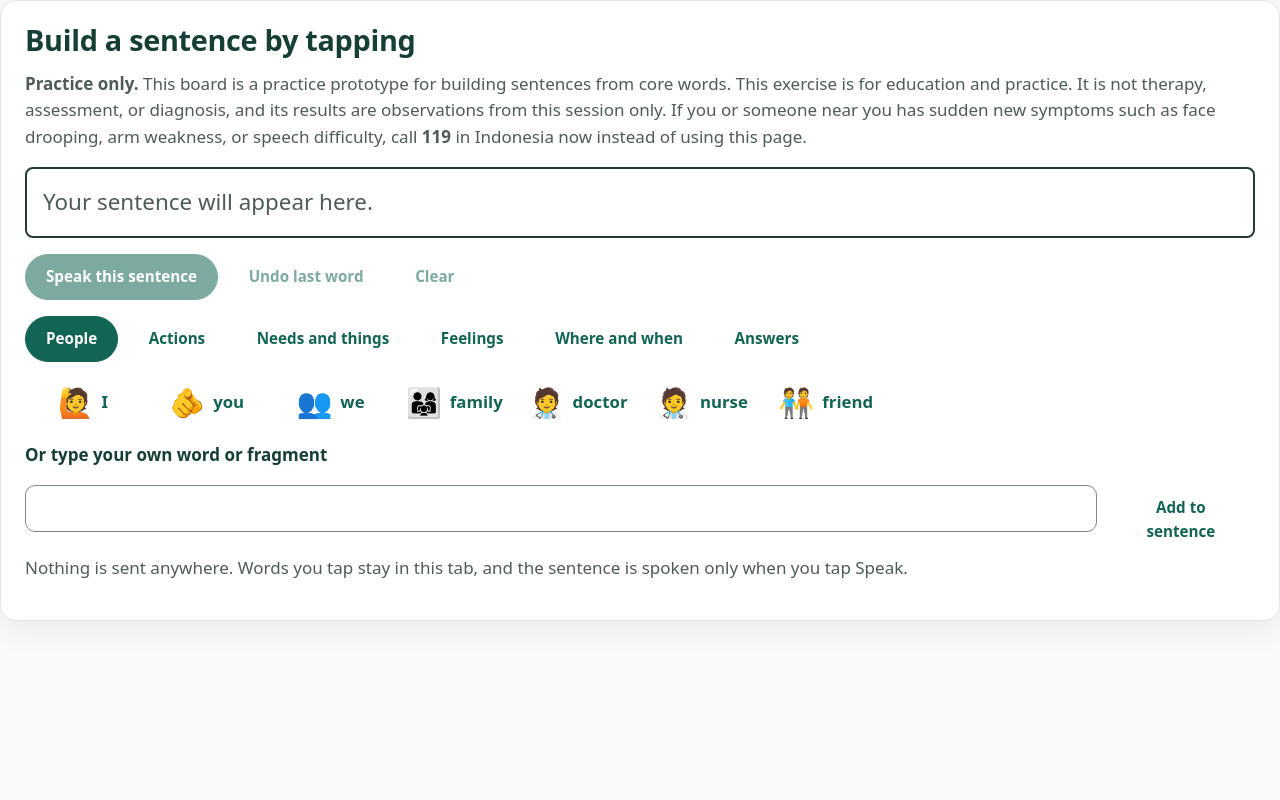
Test: AphasiaCommunicationMode › builds a sentence from tapped core words in tap order
The image size is (1280, 800).
Click the button "🙋 I" at (83, 402), box x1=25 y1=362 x2=141 y2=442
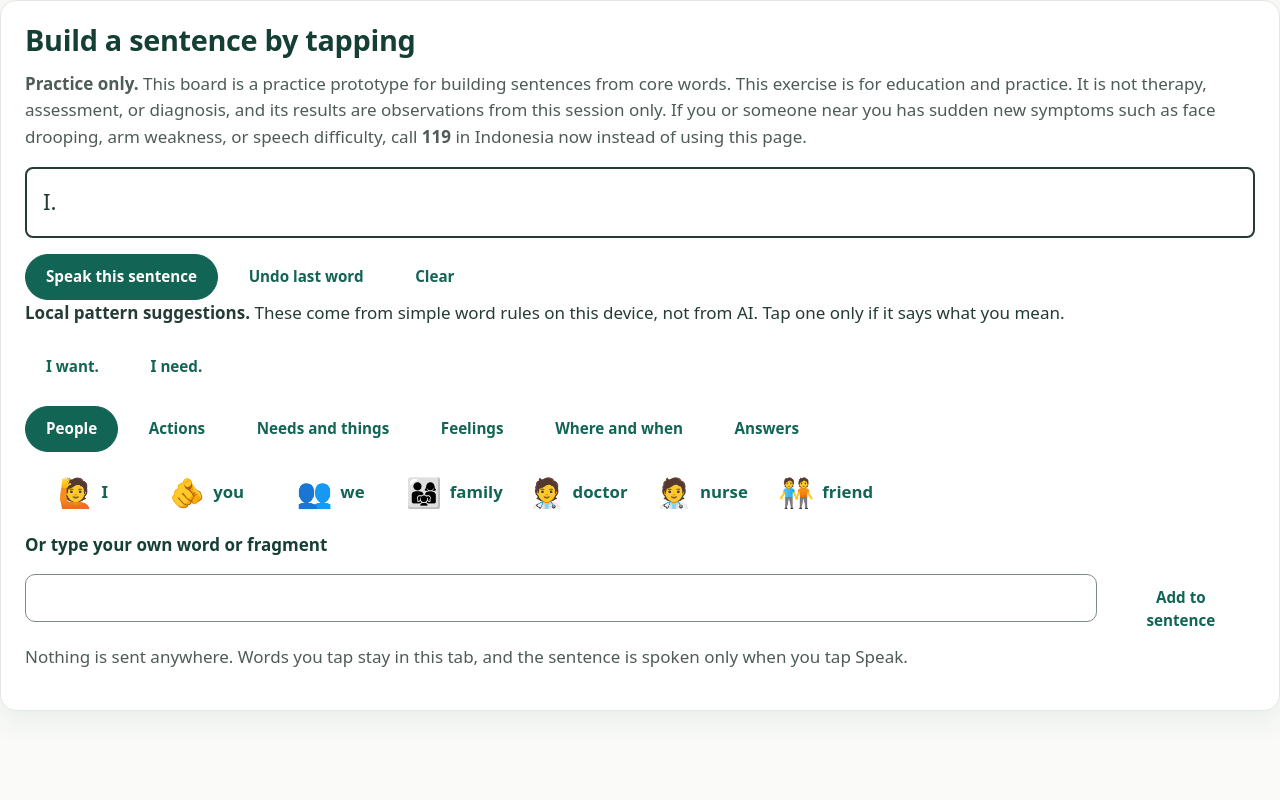
Click the tab "Actions" at (177, 429), box x1=128 y1=406 x2=226 y2=452
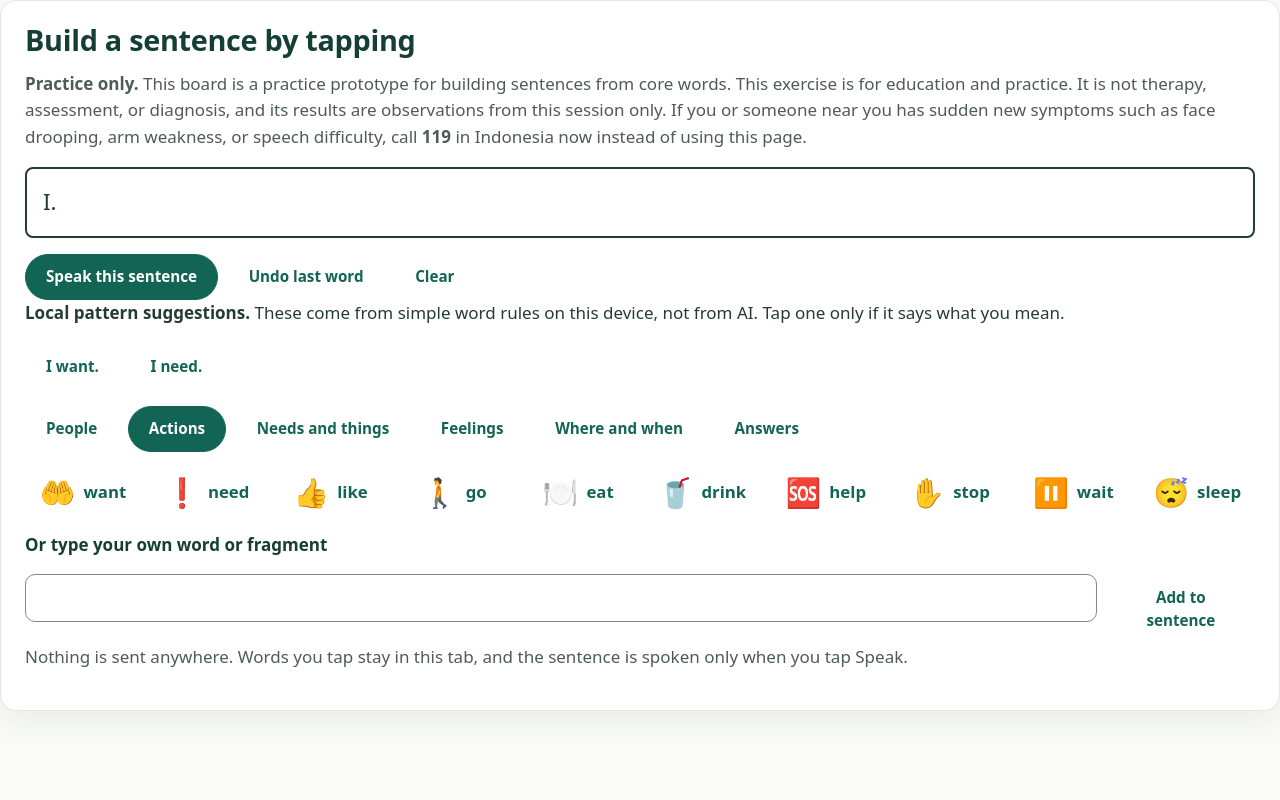
Click the button "🤲 want" at (83, 492), box x1=25 y1=452 x2=141 y2=532
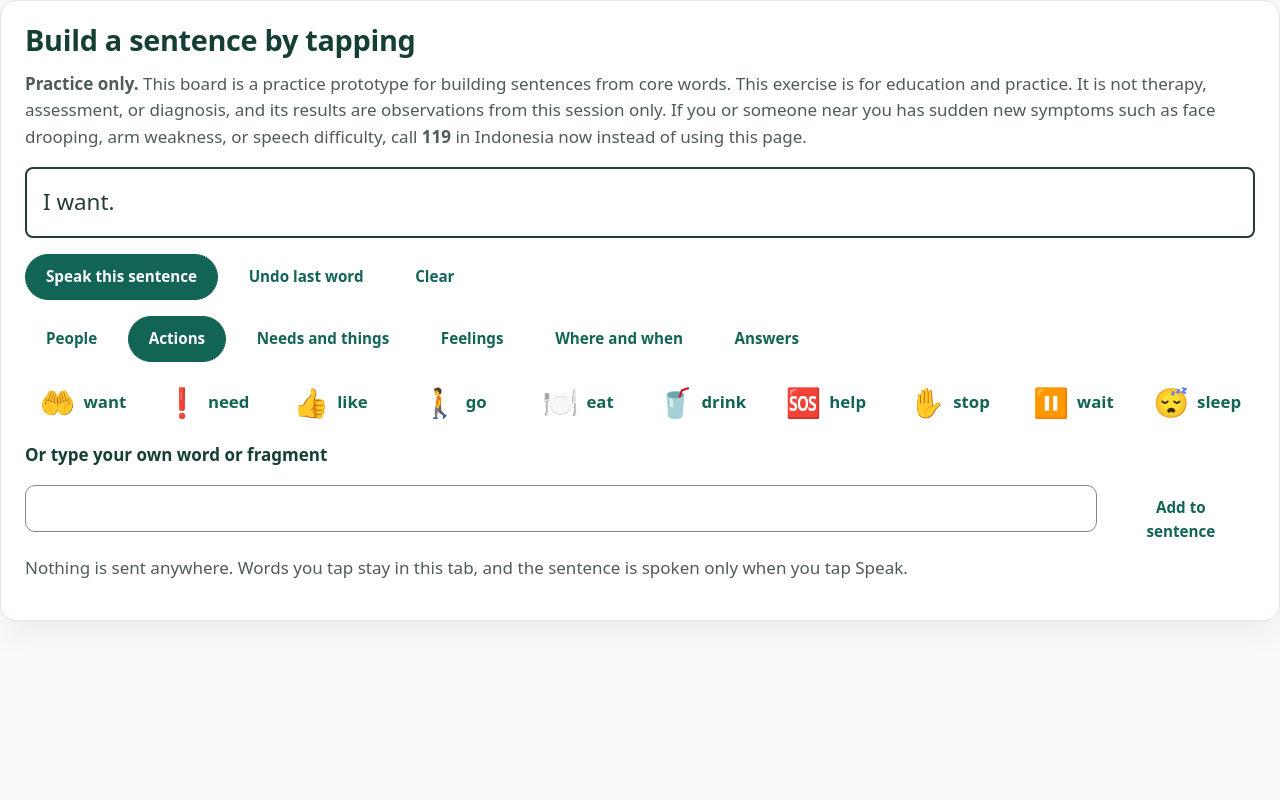
Click the tab "Needs and things" at (323, 339), box x1=236 y1=316 x2=410 y2=362
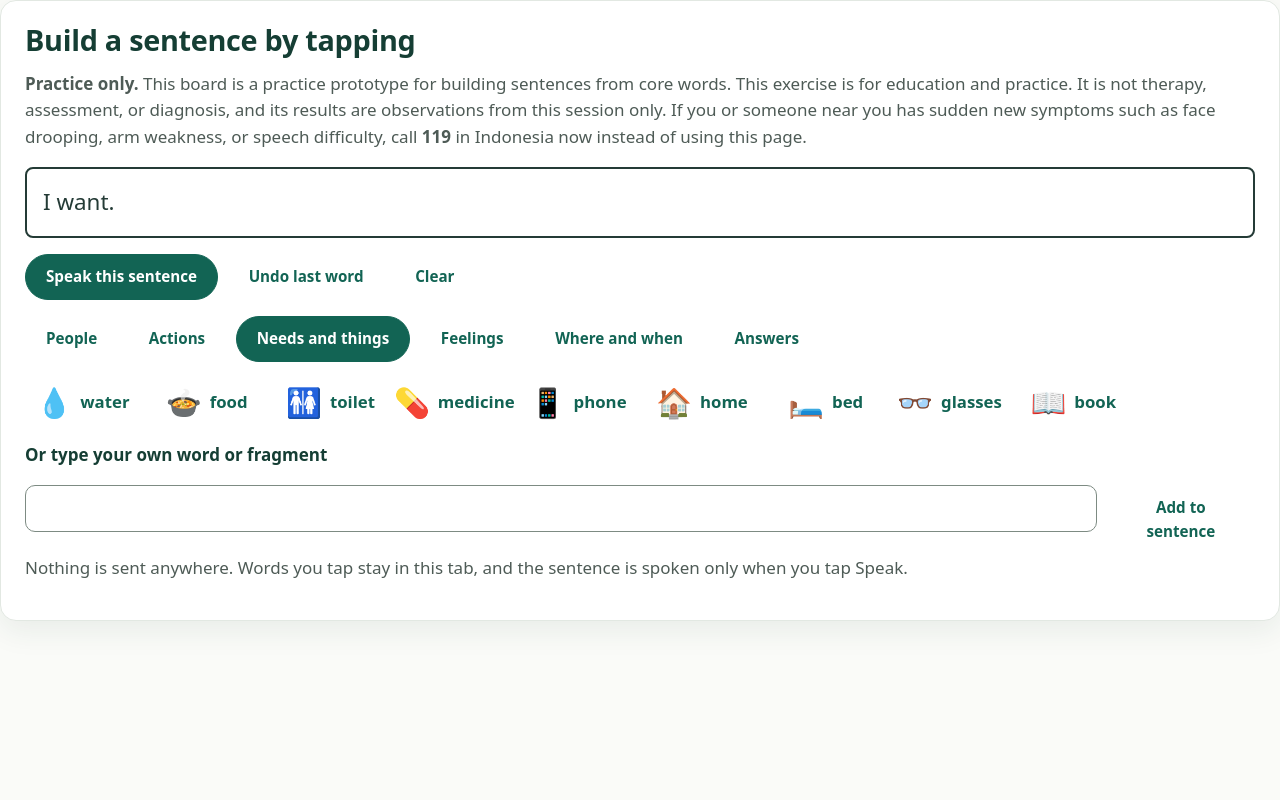
Click the button "💧 water" at (83, 402), box x1=25 y1=362 x2=141 y2=442
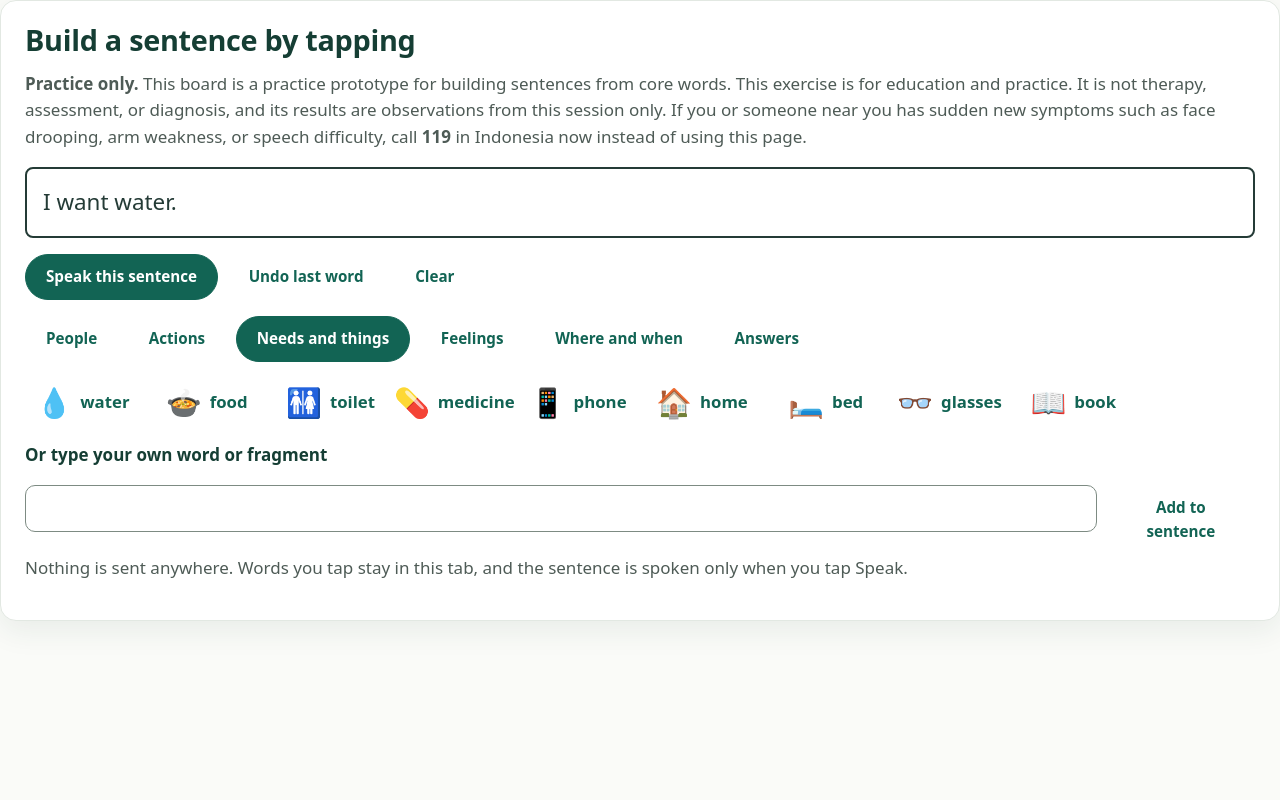
Expected: the text "I want water." is shown, x1=25 y1=167 x2=1255 y2=238
